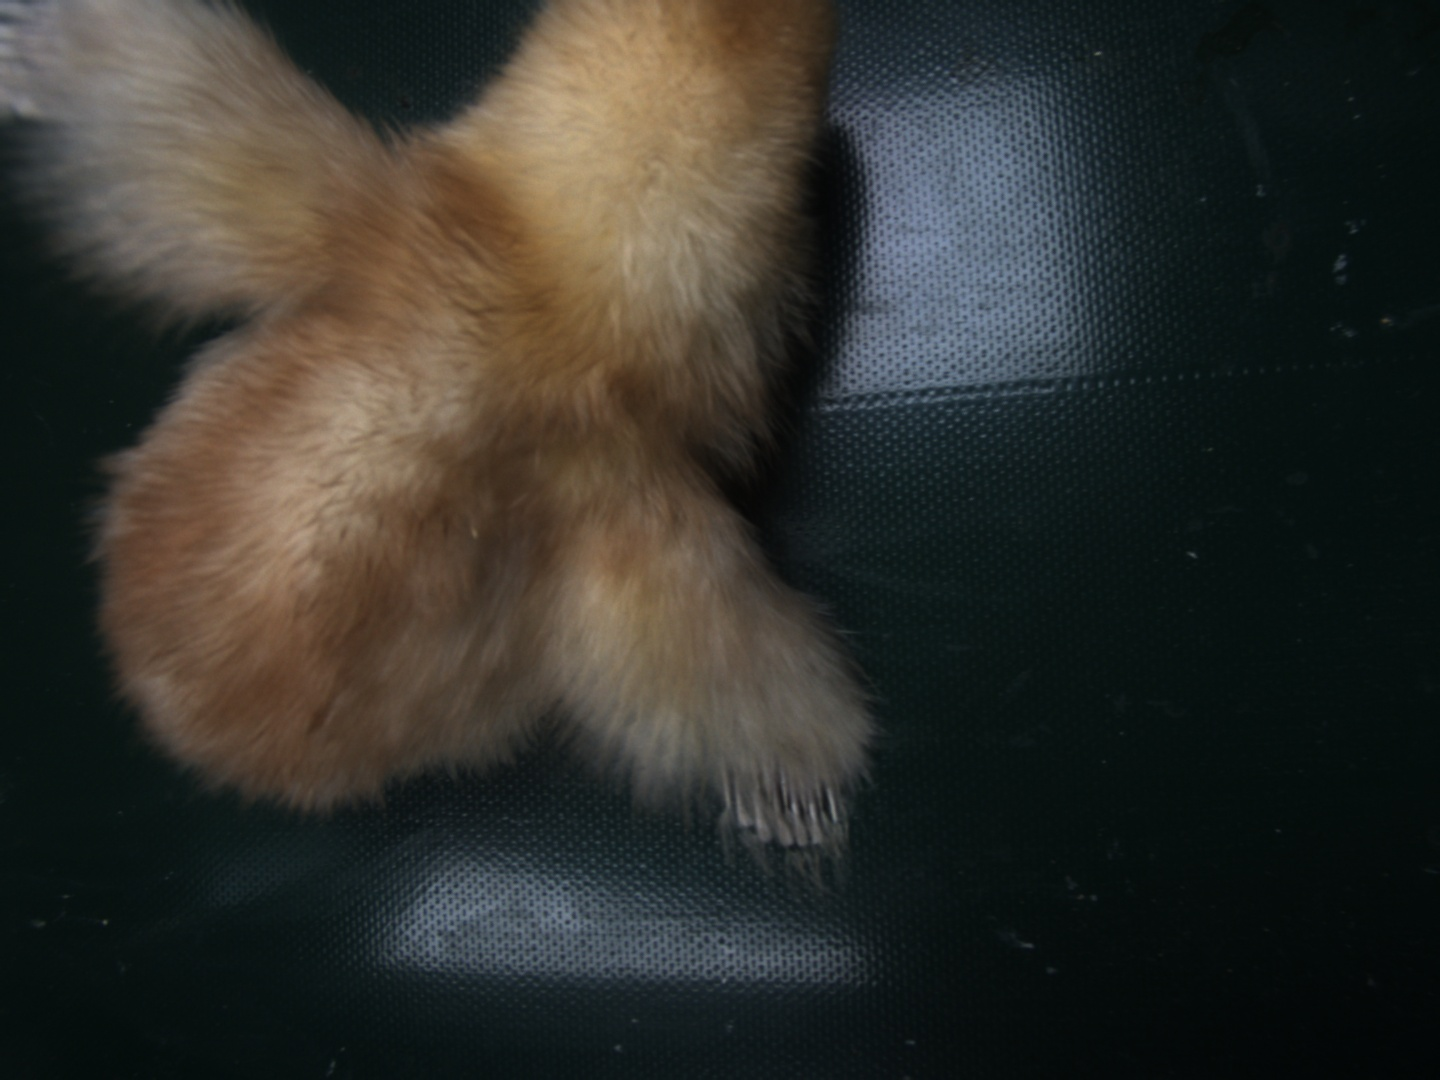female: (720, 766, 844, 855)
